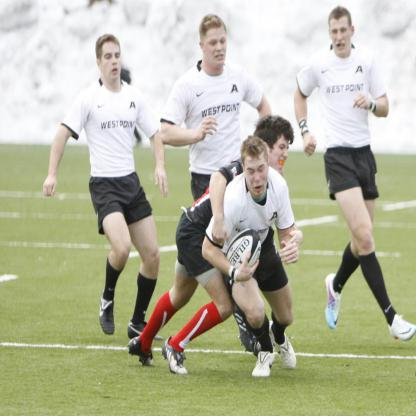Ball: (226, 229, 260, 266)
